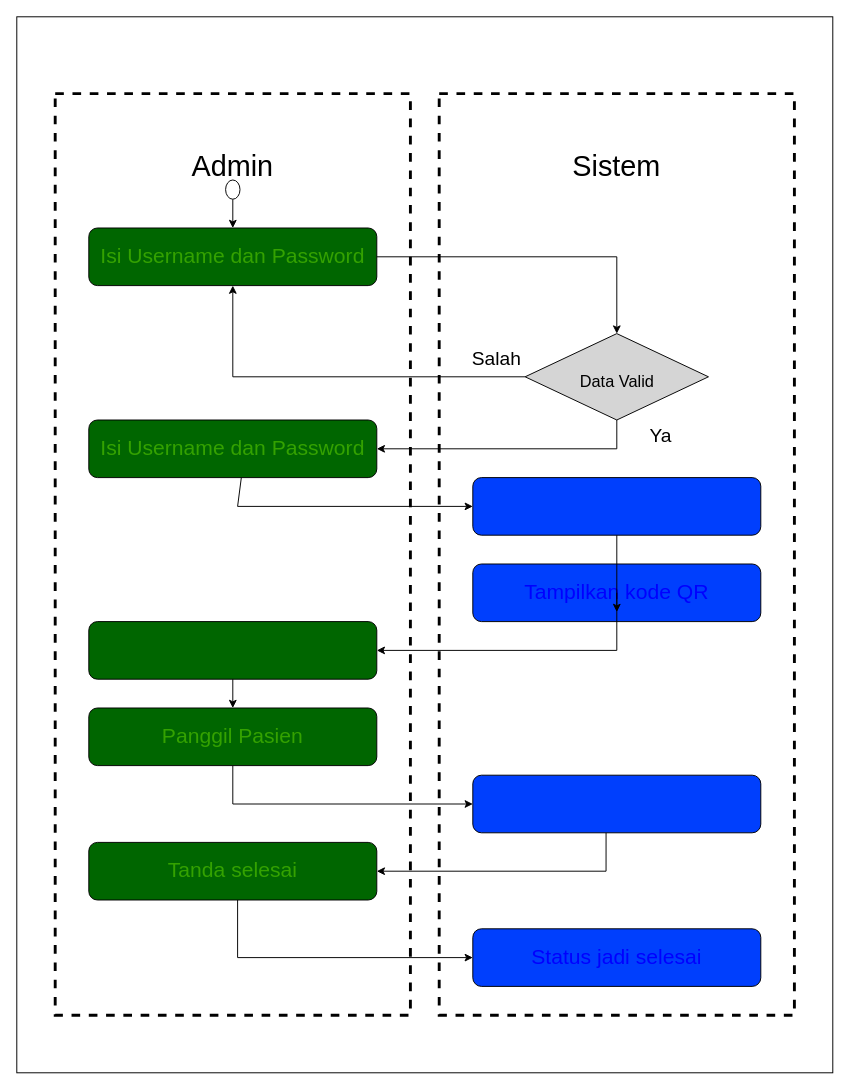
Image size: 850x1090. Some labels were removed from this diagram. Here are the shapes that lost their labels. From the top down, the centre of each, then its label:
At point (616, 506): "Buat Tiket, simpan data".
At point (232, 650): "Berikan qr ke pasien".
At point (616, 803): "Status jadi panggil".
